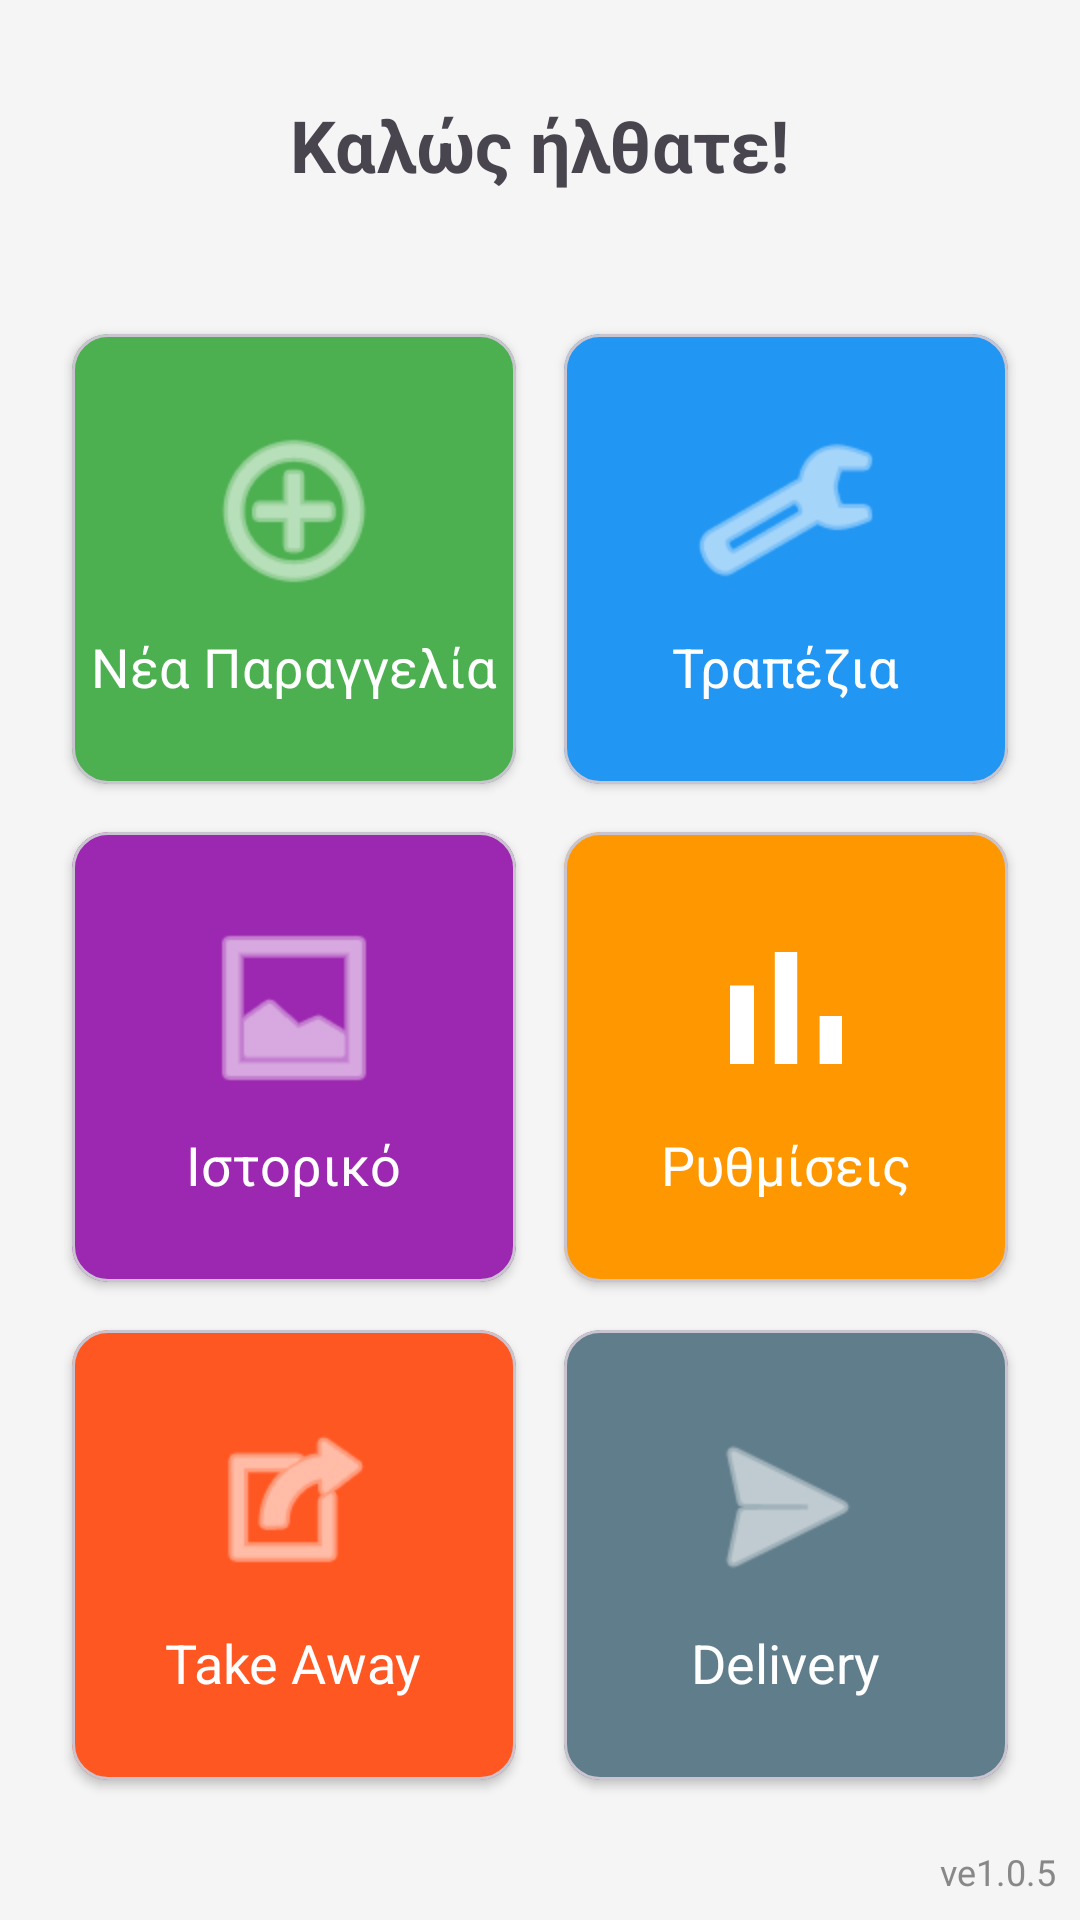

Where icons sit on this 1080x1920 app screen, as (left=x1, top=y1, right=x2, bottom=y2):
add: (left=223, top=440, right=365, bottom=582)
gallery: (left=222, top=935, right=366, bottom=1081)
manage: (left=699, top=444, right=873, bottom=576)
report: (left=730, top=952, right=842, bottom=1064)
send: (left=727, top=1447, right=849, bottom=1567)
set as: (left=228, top=1437, right=363, bottom=1562)
